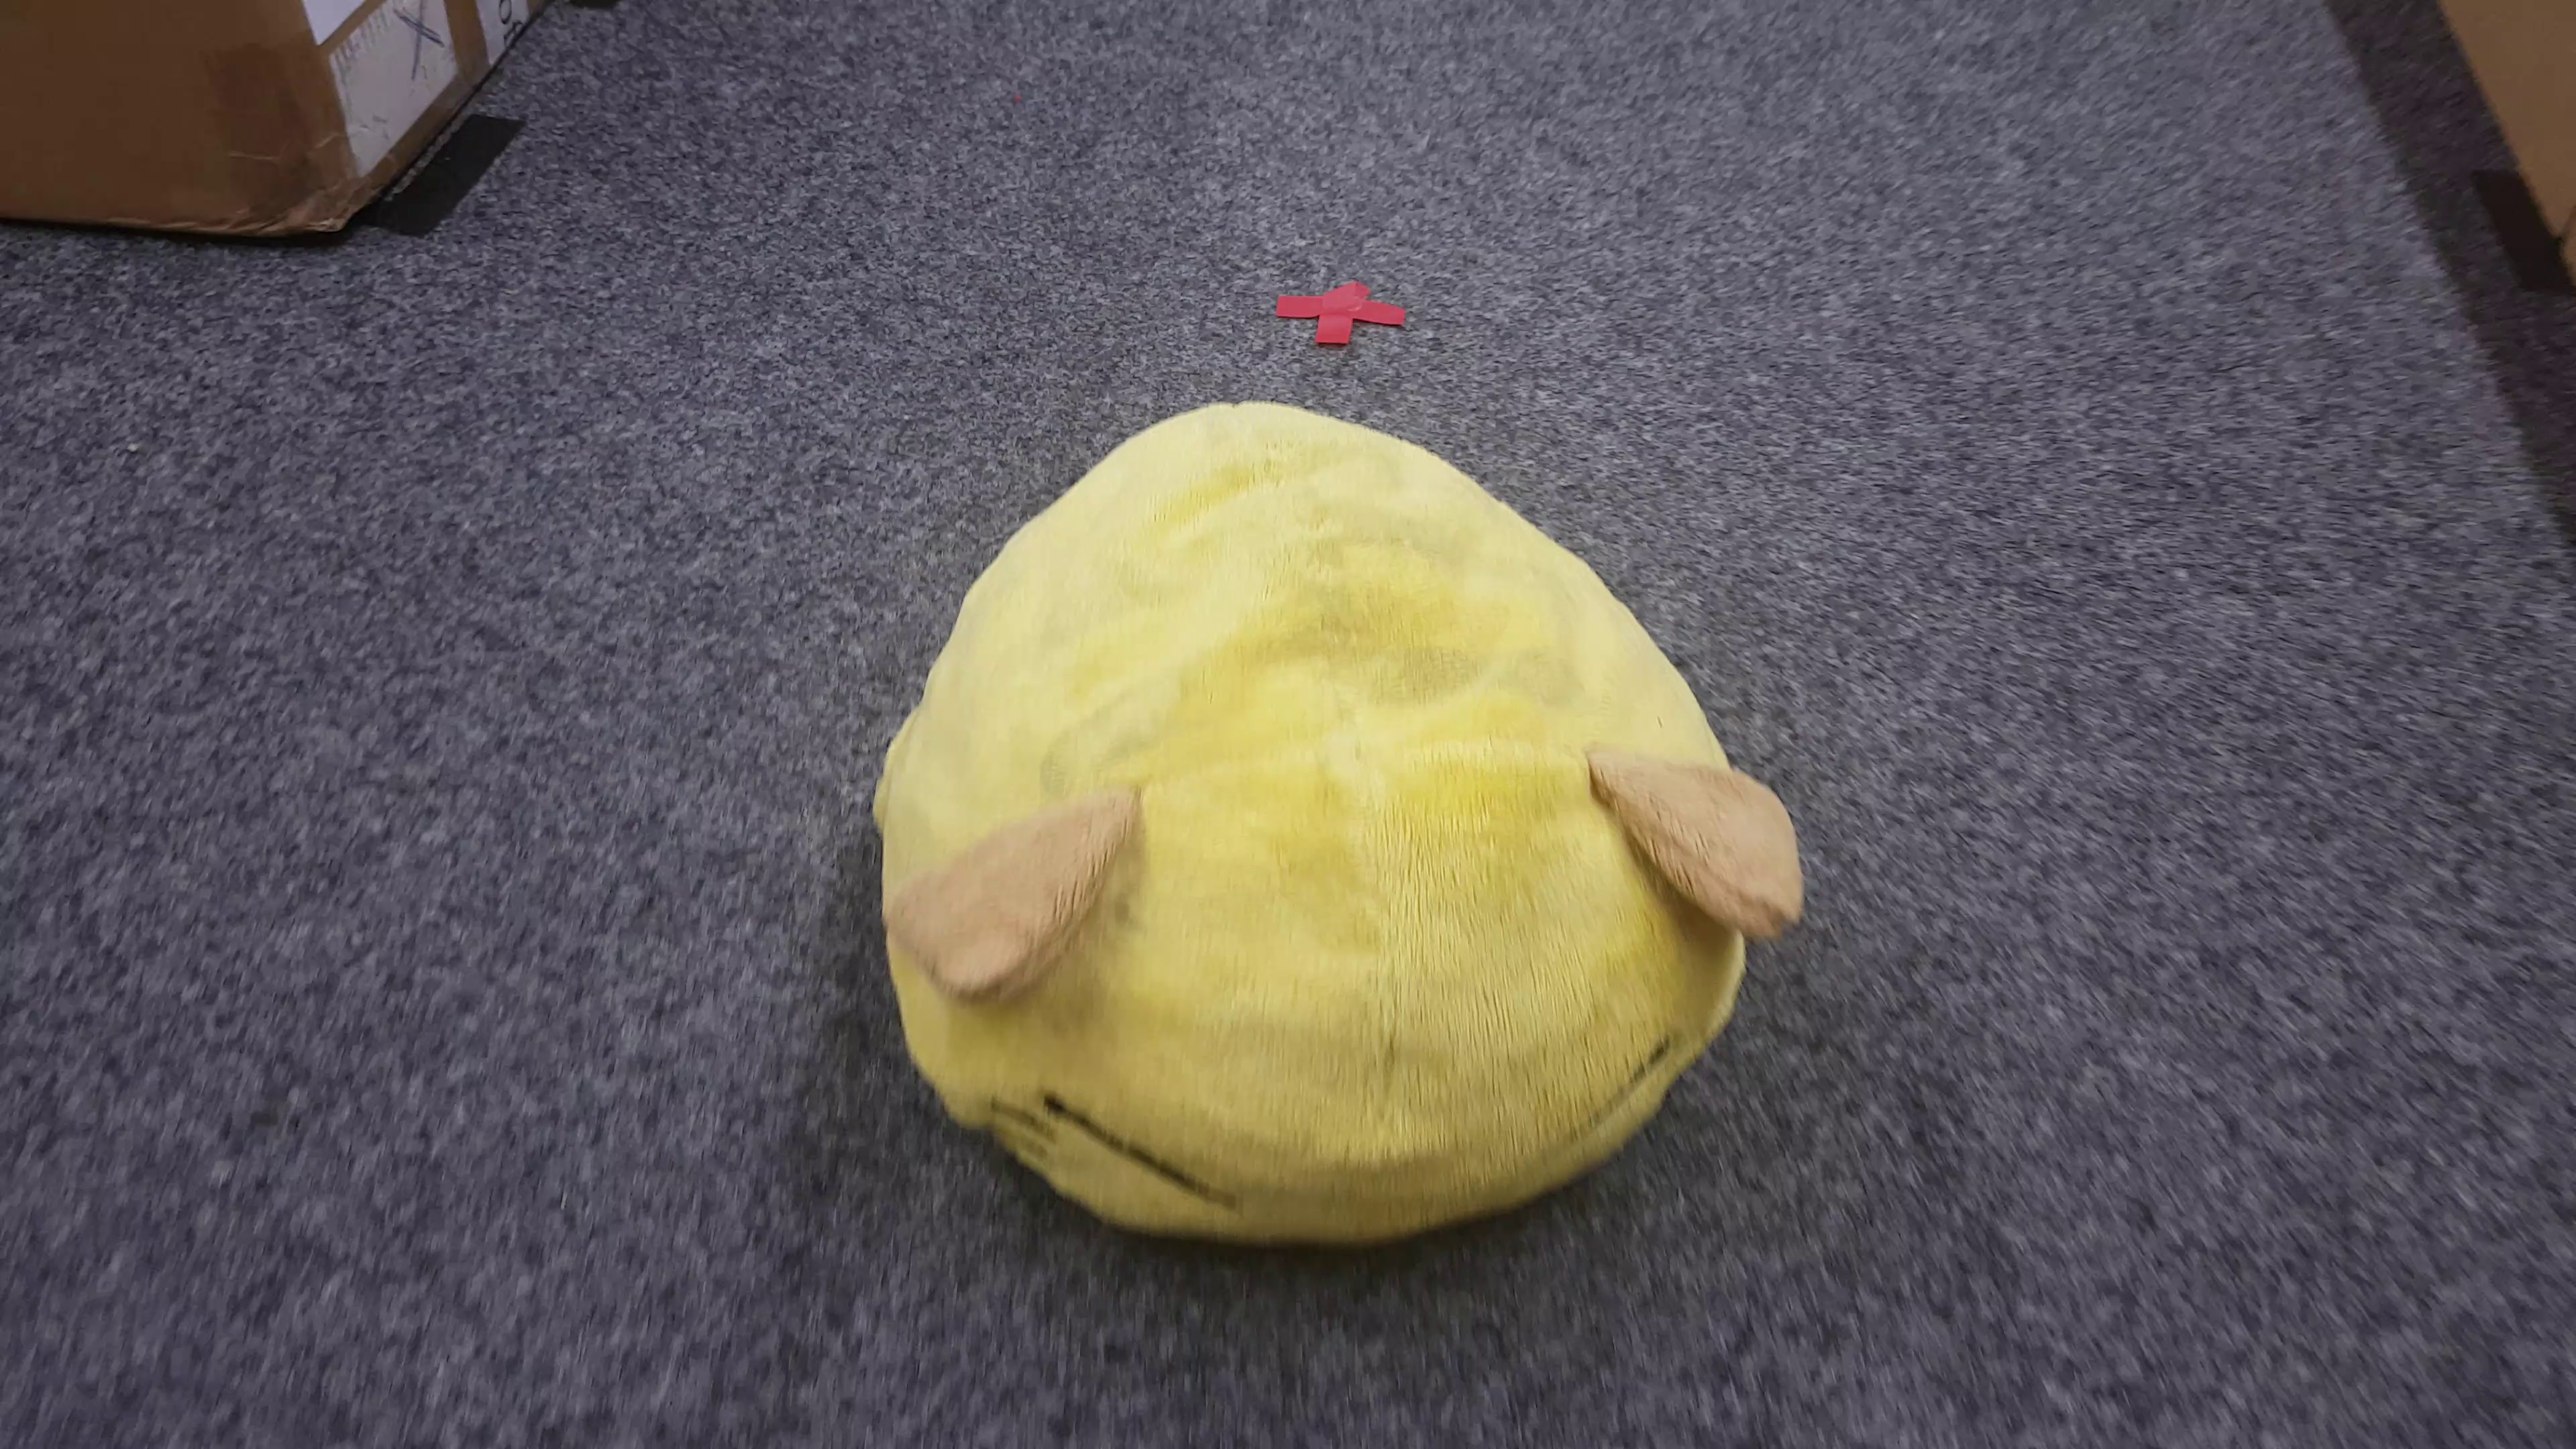grasp: (881, 395, 1803, 1244)
